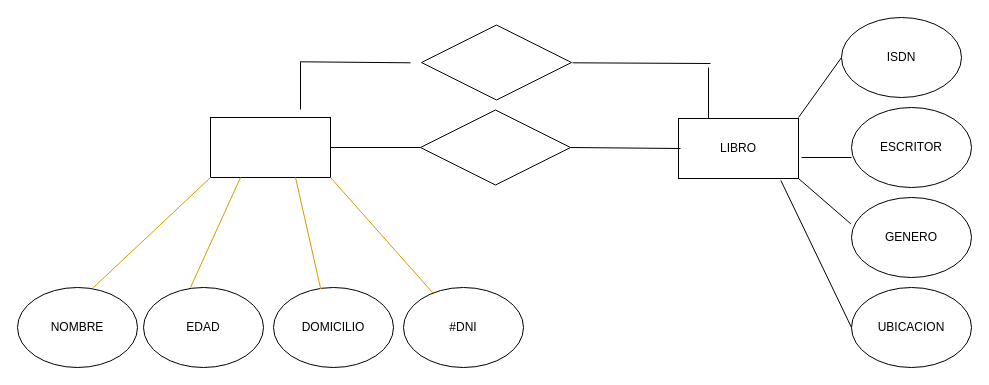
Some shapes in this 989 by 385 pixel diagram are drawn without their labels. Here are the shapes that lost their labels. From the top down, the centre of each, then its label:
point (496, 62): DEVUELVE
point (270, 147): SOCIO
point (495, 147): TOMA PRESTADO
